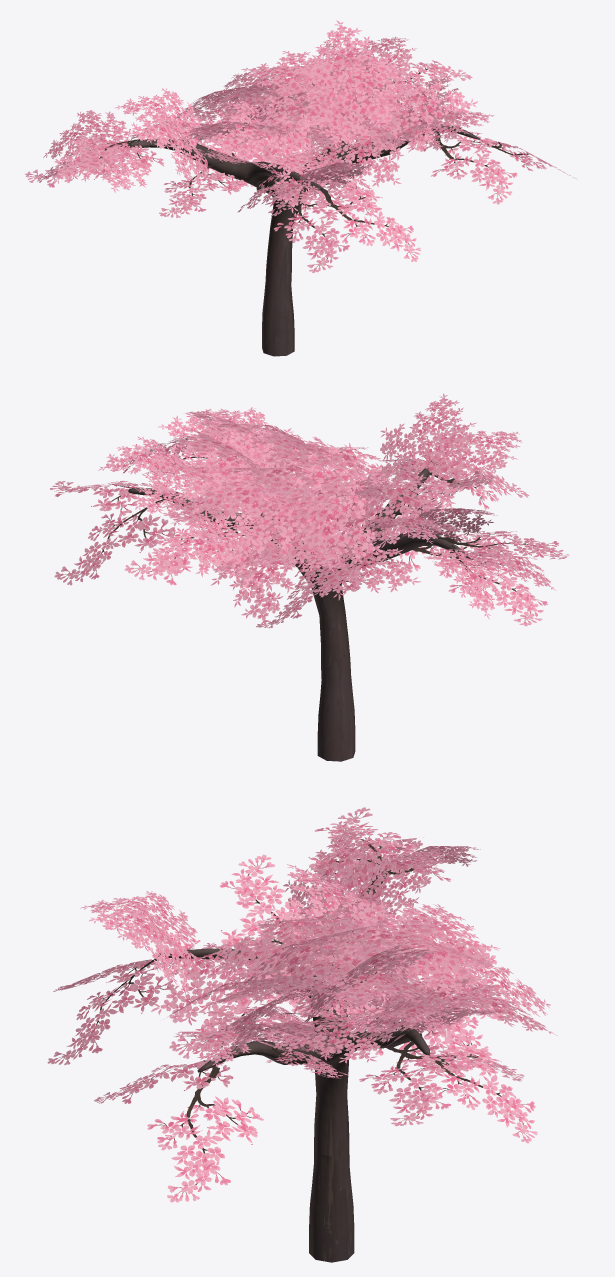
The picture shows the model from 3 angles, top to bottom: view 1: azimuth 30°, elevation 25°; view 2: azimuth 150°, elevation 25°; view 3: azimuth 270°, elevation 25°; orthographic projection. The views are drawn at different scales.
Visible parts, largest first — view 1: body0_model0_lod0_mesh2, body0_model0_lod0_mesh1, body0_model0_lod0_mesh0; view 2: body0_model0_lod0_mesh2, body0_model0_lod0_mesh1, body0_model0_lod0_mesh0; view 3: body0_model0_lod0_mesh2, body0_model0_lod0_mesh1, body0_model0_lod0_mesh0.
Part boxes in pixels (x1,y1,x2,y2): body0_model0_lod0_mesh2: (43,20,493,213); body0_model0_lod0_mesh1: (25,60,576,272); body0_model0_lod0_mesh0: (118,71,480,356); body0_model0_lod0_mesh2: (98,393,556,627); body0_model0_lod0_mesh1: (50,426,569,628); body0_model0_lod0_mesh0: (128,429,472,761); body0_model0_lod0_mesh2: (80,828,557,1067); body0_model0_lod0_mesh1: (47,807,537,1202); body0_model0_lod0_mesh0: (159,868,429,1262).
Bounding box in the file's own units: 67.74 × 38.02 × 53.99.
Materials: 3 (3 with a texture image).
